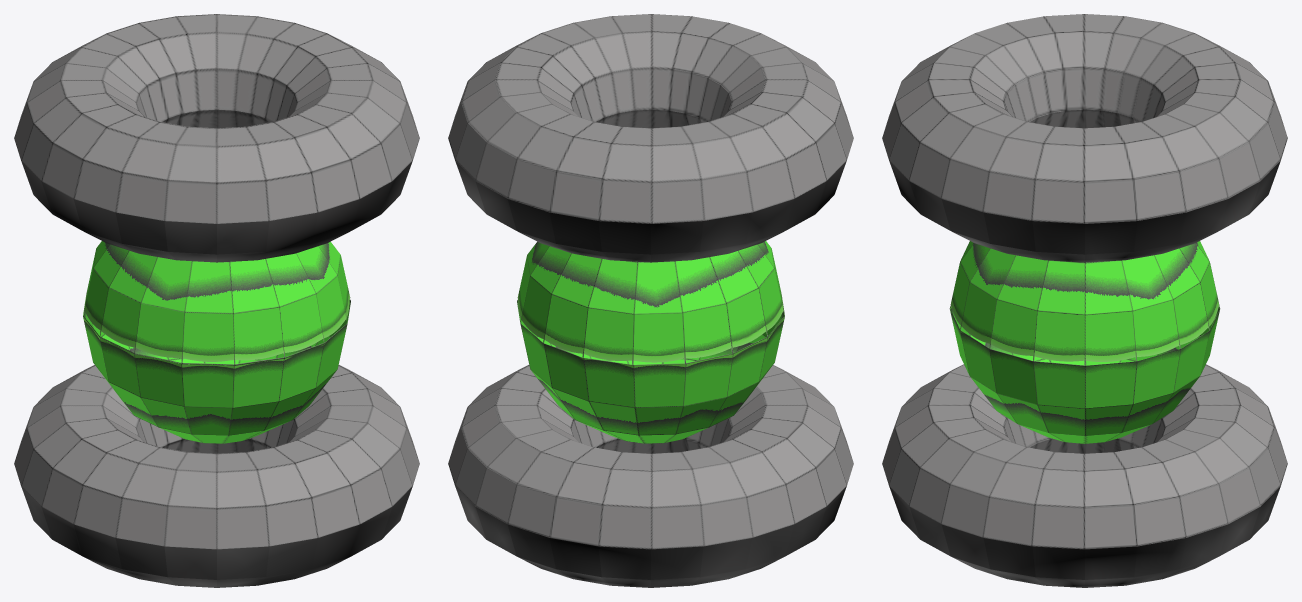
The model's file is PowerCore.fbx.
The picture shows the model from 3 angles, left to right: view 1: azimuth 30°, elevation 25°; view 2: azimuth 150°, elevation 25°; view 3: azimuth 270°, elevation 25°; orthographic projection.
Visible parts, largest first — view 1: Torus.001; view 2: Torus.001; view 3: Torus.001.
Part boxes in pixels (x1,y1,x2,y2): Torus.001: (14,14,419,587); Torus.001: (448,14,853,587); Torus.001: (882,14,1287,587).
Bounding box in the file's own units: 1.5 × 1.8 × 1.5.
